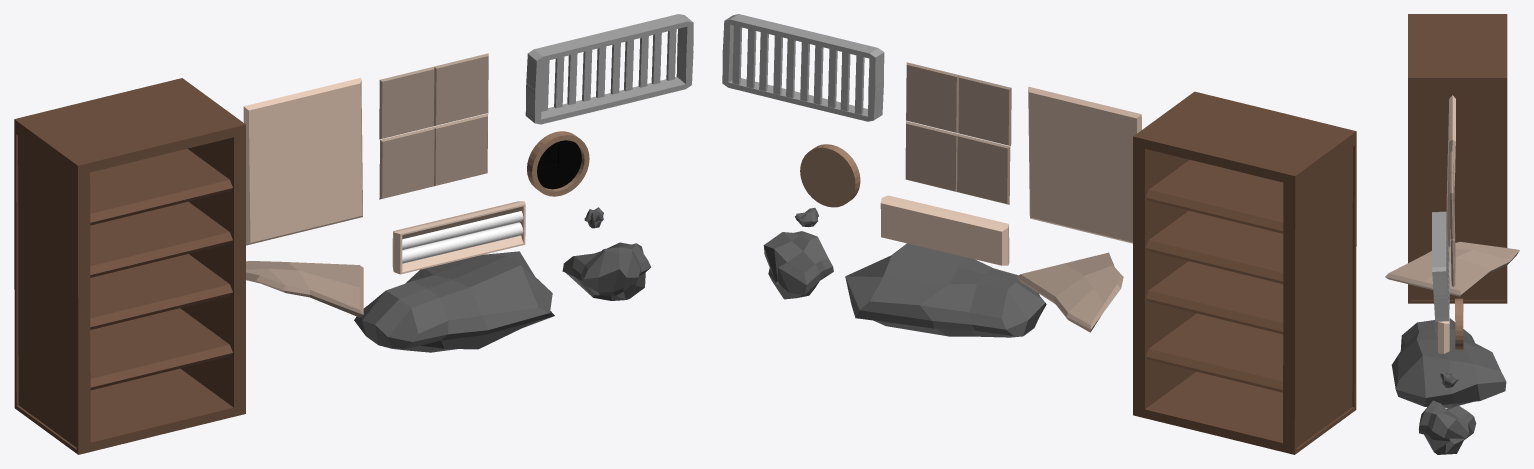
File: debres.fbx
3 renders of one model, left to right at view 1: azimuth 30°, elevation 25°; view 2: azimuth 150°, elevation 25°; view 3: azimuth 270°, elevation 25°, orthographic. The views are drawn at different scales.
Visible parts, largest first — view 1: book cab, ceiling, rock big, ceiling2, ceiling holder, lights, ceiling3, rock mid, clock; view 2: book cab, ceiling, rock big, ceiling2, ceiling holder, lights, ceiling3, rock mid, clock; view 3: book cab, rock big, ceiling3, rock mid, ceiling holder, ceiling, ceiling2, clock, lights, rock small.
Part boxes in pixels (left/top/right/bottom): book cab: left=14, top=78, right=245, bottom=454; ceiling: left=243, top=77, right=362, bottom=245; rock big: left=354, top=251, right=554, bottom=352; ceiling2: left=379, top=53, right=488, bottom=199; ceiling holder: left=525, top=14, right=693, bottom=124; lights: left=392, top=201, right=525, bottom=274; ceiling3: left=246, top=261, right=363, bottom=317; rock mid: left=562, top=242, right=651, bottom=300; clock: left=527, top=131, right=589, bottom=196; book cab: left=1133, top=91, right=1356, bottom=454; ceiling: left=1028, top=86, right=1141, bottom=243; rock big: left=845, top=243, right=1046, bottom=337; ceiling2: left=905, top=62, right=1011, bottom=204; ceiling holder: left=722, top=14, right=884, bottom=121; lights: left=880, top=195, right=1009, bottom=265; ceiling3: left=1016, top=252, right=1123, bottom=332; rock mid: left=763, top=231, right=833, bottom=299; clock: left=800, top=144, right=860, bottom=207; book cab: left=1408, top=14, right=1507, bottom=303; rock big: left=1391, top=318, right=1506, bottom=407; ceiling3: left=1385, top=241, right=1519, bottom=296; rock mid: left=1418, top=400, right=1476, bottom=454; ceiling holder: left=1432, top=211, right=1449, bottom=321; ceiling: left=1446, top=95, right=1455, bottom=247; ceiling2: left=1449, top=151, right=1455, bottom=286; clock: left=1455, top=298, right=1463, bottom=350; lights: left=1437, top=310, right=1449, bottom=353; rock small: left=1440, top=372, right=1458, bottom=387.
Bounding box in the file's own units: 1008 × 441 × 239.
